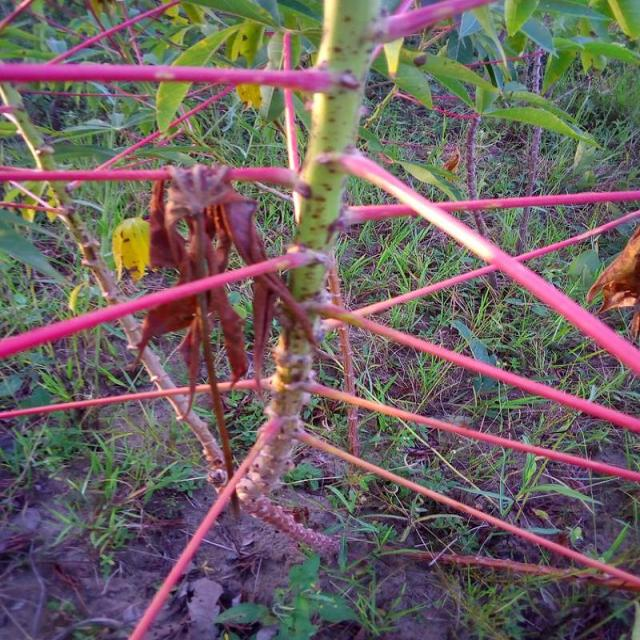cassava leaf: (110, 215, 152, 282)
